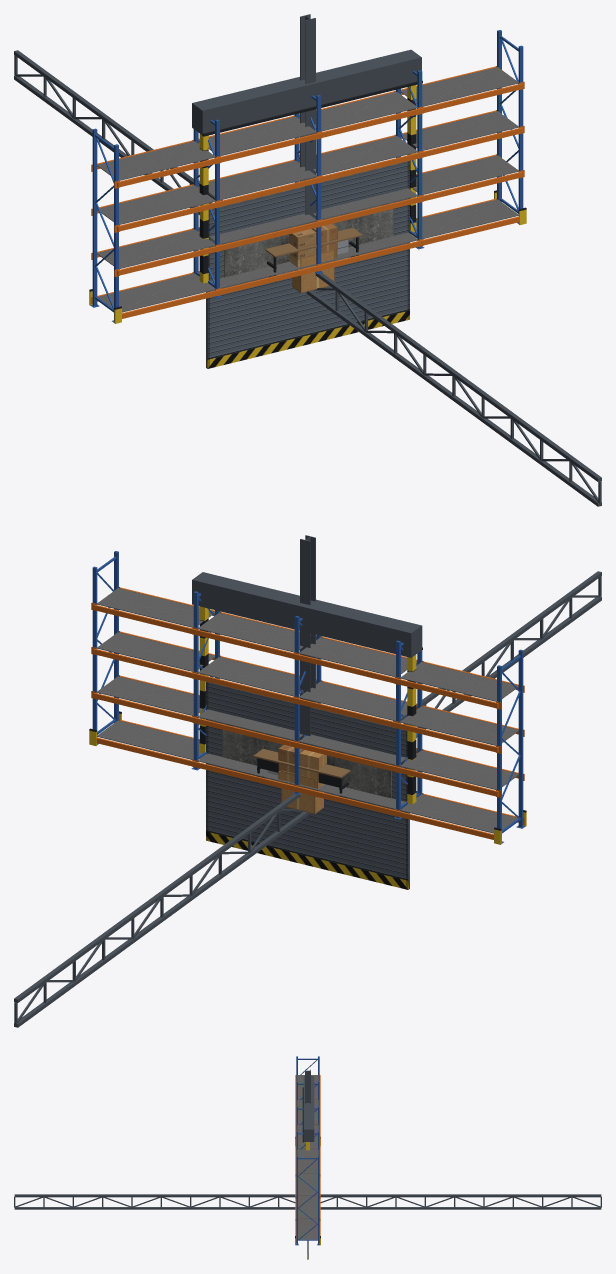
The model's file is magazyn.glb.
The picture shows the model from 3 angles, top to bottom: view 1: azimuth 30°, elevation 25°; view 2: azimuth 150°, elevation 25°; view 3: azimuth 270°, elevation 25°; orthographic projection. The views are drawn at different scales.
Visible parts, largest first — view 1: rack_12m, gate_shutter, gate_frame, roof_truss_30m, wall_plinth_5m, wall_column, pallet_load, desk, carton_a; view 2: rack_12m, gate_shutter, gate_frame, roof_truss_30m, wall_plinth_5m, wall_column, pallet_load, desk, carton_a; view 3: roof_truss_30m, rack_12m, gate_frame.
Part boxes in pixels (x1,y1,x2,y2): rack_12m: (89, 30, 526, 323); gate_shutter: (206, 161, 409, 368); gate_frame: (192, 49, 422, 283); roof_truss_30m: (14, 50, 601, 506); wall_plinth_5m: (224, 202, 393, 277); wall_column: (300, 14, 315, 224); pallet_load: (289, 223, 337, 270); desk: (265, 228, 362, 281); carton_a: (292, 249, 334, 292); rack_12m: (89, 551, 526, 844); gate_shutter: (206, 682, 409, 889); gate_frame: (192, 572, 422, 804); roof_truss_30m: (14, 571, 601, 1027); wall_plinth_5m: (222, 723, 391, 798); wall_column: (300, 535, 315, 745); pallet_load: (278, 745, 326, 791); desk: (253, 749, 350, 802); carton_a: (281, 770, 323, 813); roof_truss_30m: (14, 1194, 601, 1209); rack_12m: (295, 1056, 320, 1245); gate_frame: (302, 1076, 314, 1150).
Size of the model in its own units: 12.2 by 9.25 by 30.06.
14 materials, 5 textured.
